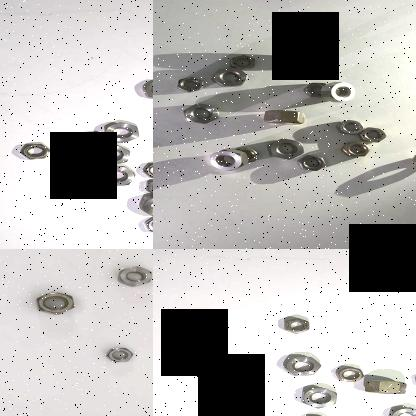NUTS: (30, 288, 80, 316), (204, 148, 249, 174), (282, 354, 326, 380), (295, 386, 340, 410), (178, 101, 222, 125), (90, 141, 130, 167), (358, 378, 410, 398), (90, 166, 136, 188), (206, 67, 252, 89), (257, 107, 307, 127), (102, 119, 140, 145), (264, 138, 304, 162), (224, 51, 261, 75), (18, 141, 56, 164), (112, 266, 153, 286), (288, 52, 330, 70), (321, 82, 356, 103), (230, 142, 260, 166), (278, 315, 314, 335), (77, 131, 113, 150), (329, 364, 363, 384), (100, 346, 136, 364), (174, 74, 202, 96), (338, 141, 372, 159), (295, 153, 326, 171), (358, 127, 388, 145), (298, 80, 326, 98), (336, 120, 366, 136), (384, 401, 416, 416), (134, 195, 153, 216), (141, 78, 153, 101), (140, 214, 153, 234), (141, 160, 153, 180), (142, 176, 153, 196), (408, 154, 416, 169)
